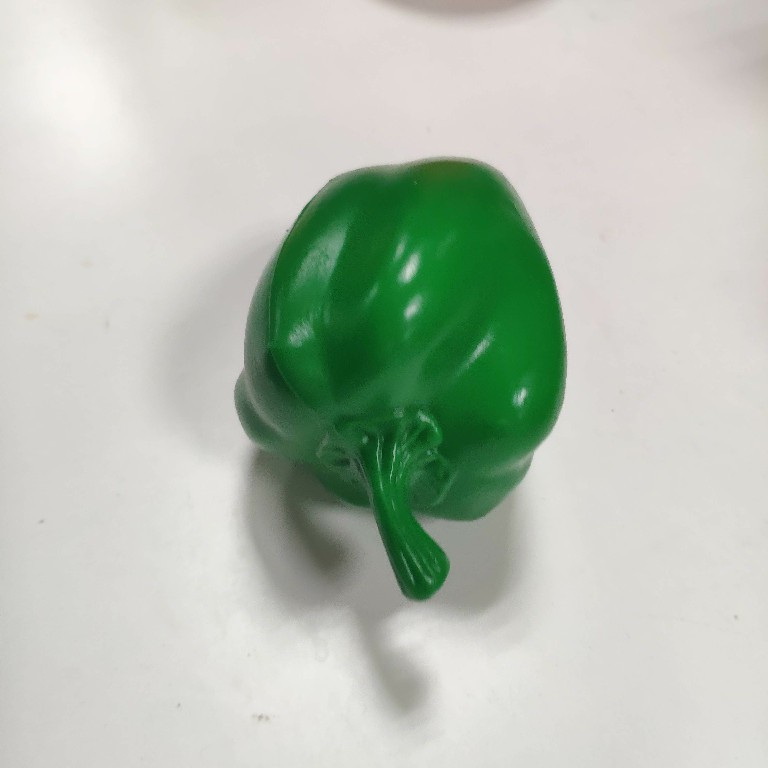fruit_pepper: (229, 154, 571, 609)
